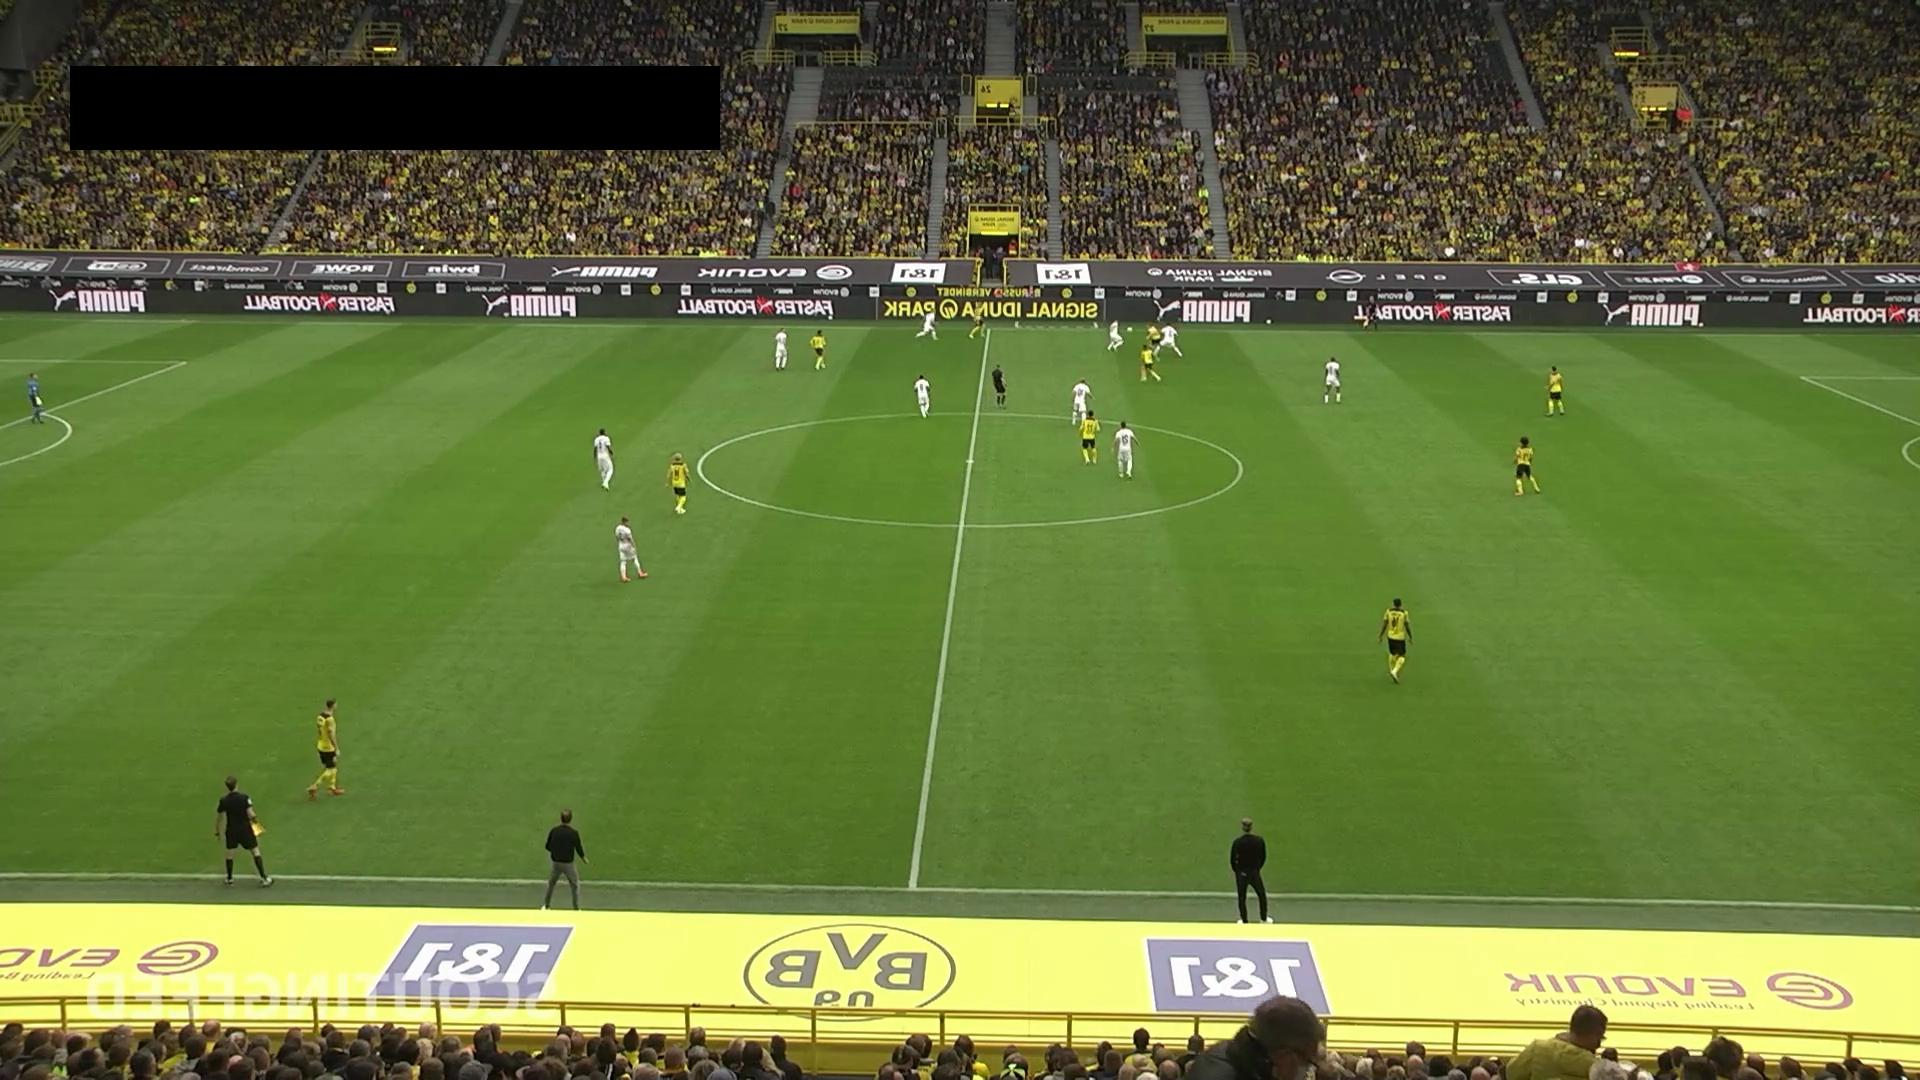ball: (1126, 325, 1135, 334)
goalkeeper: (26, 371, 46, 425)
player: (306, 697, 346, 801), (1377, 598, 1414, 684), (614, 515, 648, 582), (1511, 435, 1541, 495), (1112, 420, 1139, 480), (667, 452, 690, 516), (593, 427, 615, 491), (1079, 410, 1102, 465), (1070, 377, 1094, 427), (1153, 323, 1183, 359), (1139, 340, 1162, 383), (1322, 355, 1342, 404), (1546, 365, 1565, 416), (913, 372, 932, 419), (967, 301, 988, 339), (916, 306, 939, 340), (1143, 322, 1163, 359), (809, 329, 827, 370), (773, 327, 789, 371), (1106, 320, 1124, 351)
referee: (214, 772, 273, 889), (991, 364, 1007, 409), (1362, 292, 1380, 331)
